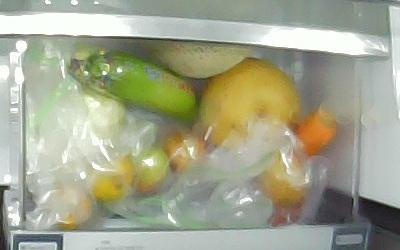carrot: (294, 108, 337, 157)
melon: (145, 39, 249, 79)
peach_vinyl: (199, 57, 300, 150)
prune_vinyl: (256, 152, 308, 205), (268, 195, 305, 226)
tangerine_vinyl: (85, 155, 134, 201), (57, 186, 93, 229)
tomato_vinyl: (132, 145, 170, 195), (163, 132, 205, 175)
zucchini: (68, 50, 197, 128)
